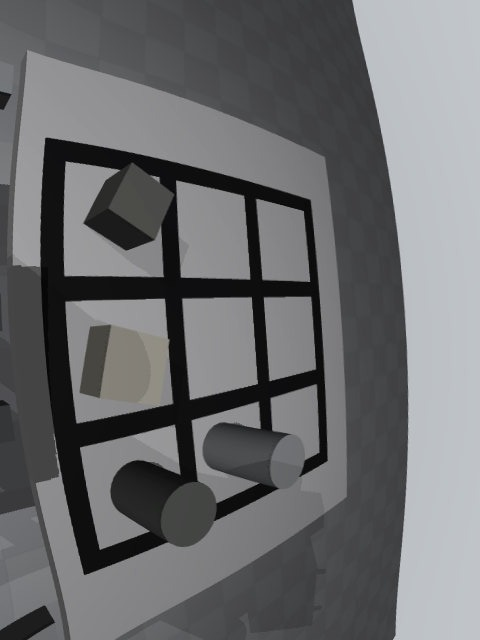can: (202, 422, 305, 489)
cube: (83, 162, 175, 251)
cylinder: (110, 460, 217, 547)
foam: (80, 324, 170, 406)
